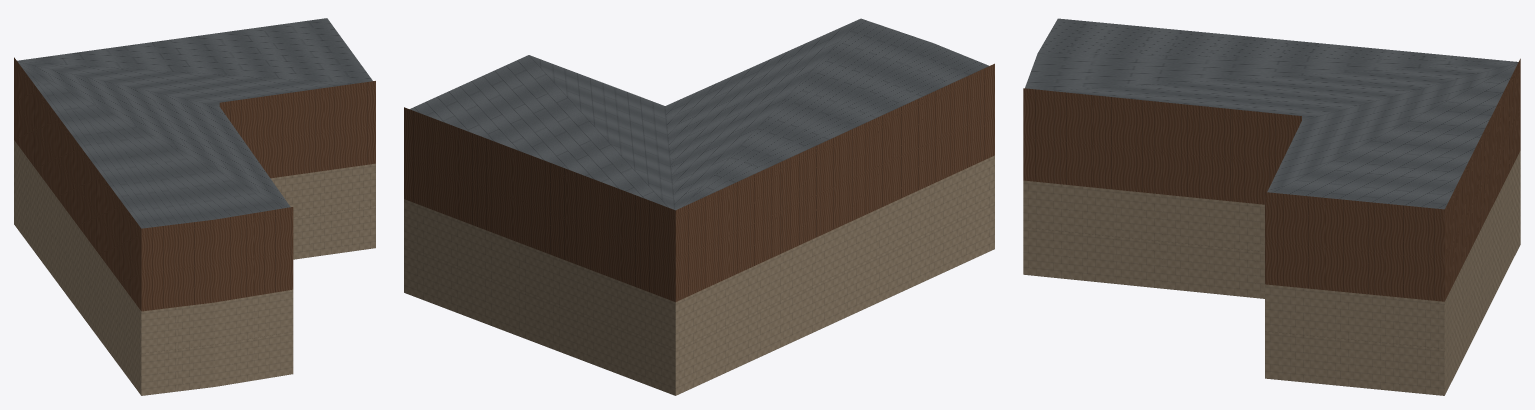
Rendered from bld_c-19_-6_695.gltf.
3 renders of one model, left to right at view 1: azimuth 30°, elevation 25°; view 2: azimuth 150°, elevation 25°; view 3: azimuth 270°, elevation 25°, orthographic. The views are drawn at different scales.
Parts seen in each view (by area): view 1: bld_c-19_-6_695; view 2: bld_c-19_-6_695; view 3: bld_c-19_-6_695.
Part boxes in pixels (x1,y1,x2,y2): bld_c-19_-6_695: (14,18,375,395); bld_c-19_-6_695: (404,18,994,395); bld_c-19_-6_695: (1023,18,1520,395).
Bounding box in the file's own units: 22.2 × 9.88 × 23.89.
Materials: 4 (4 with a texture image).
